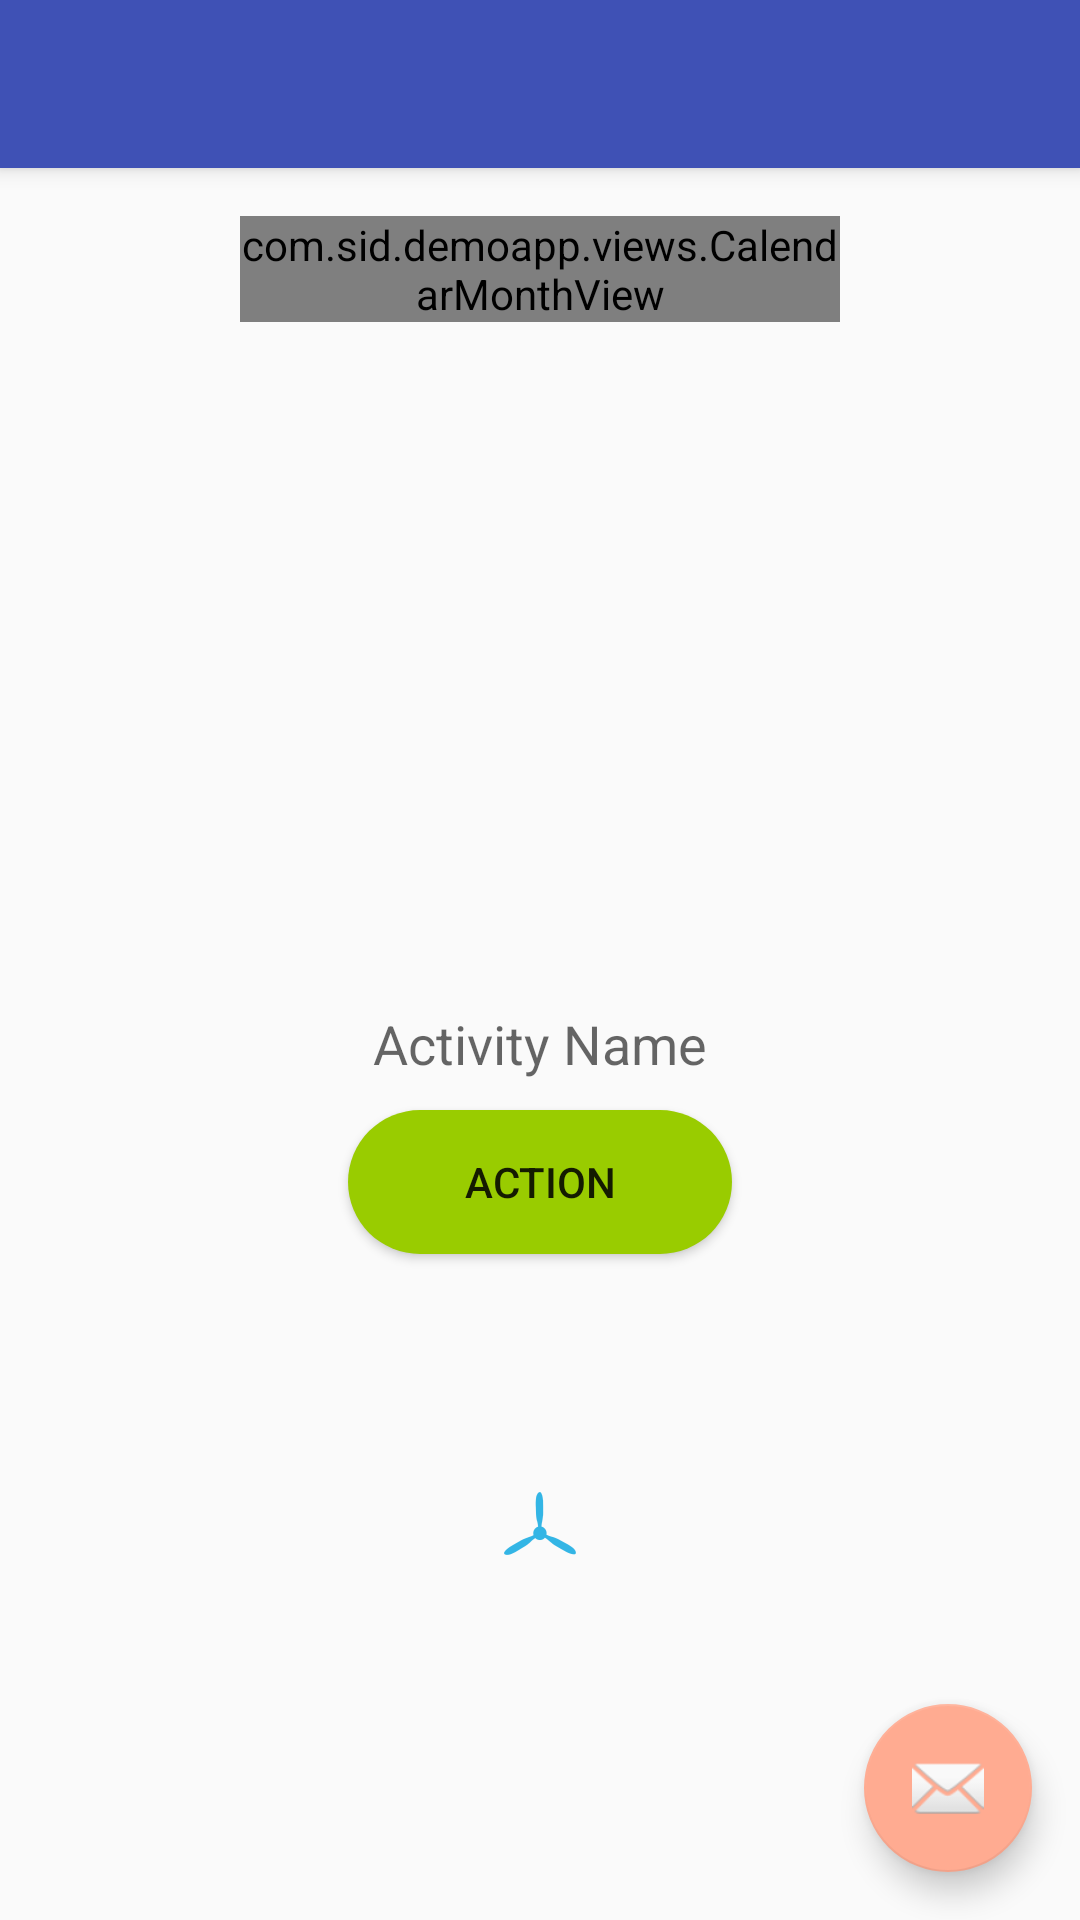

Screen size 1080 × 1920. Icon name, then its center in pixels as point (x, y):
email: point (948, 1788)
helicopter propeller: point (540, 1523)
